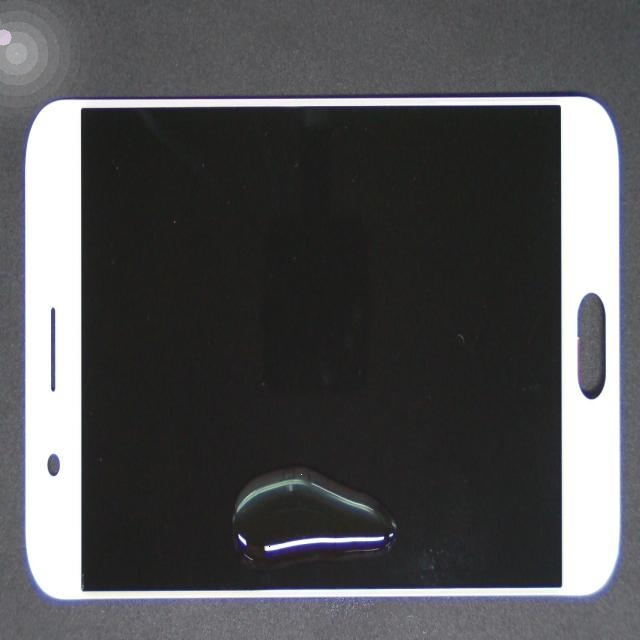oil: (117, 226, 354, 640)
